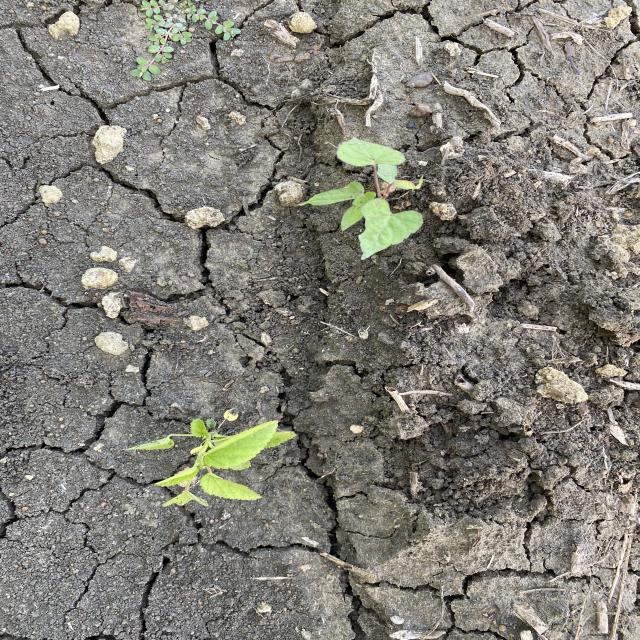MorningGlory: (293, 136, 426, 263)
PricklySida: (123, 406, 300, 508)
SpottedSpurge: (126, 1, 245, 81)
